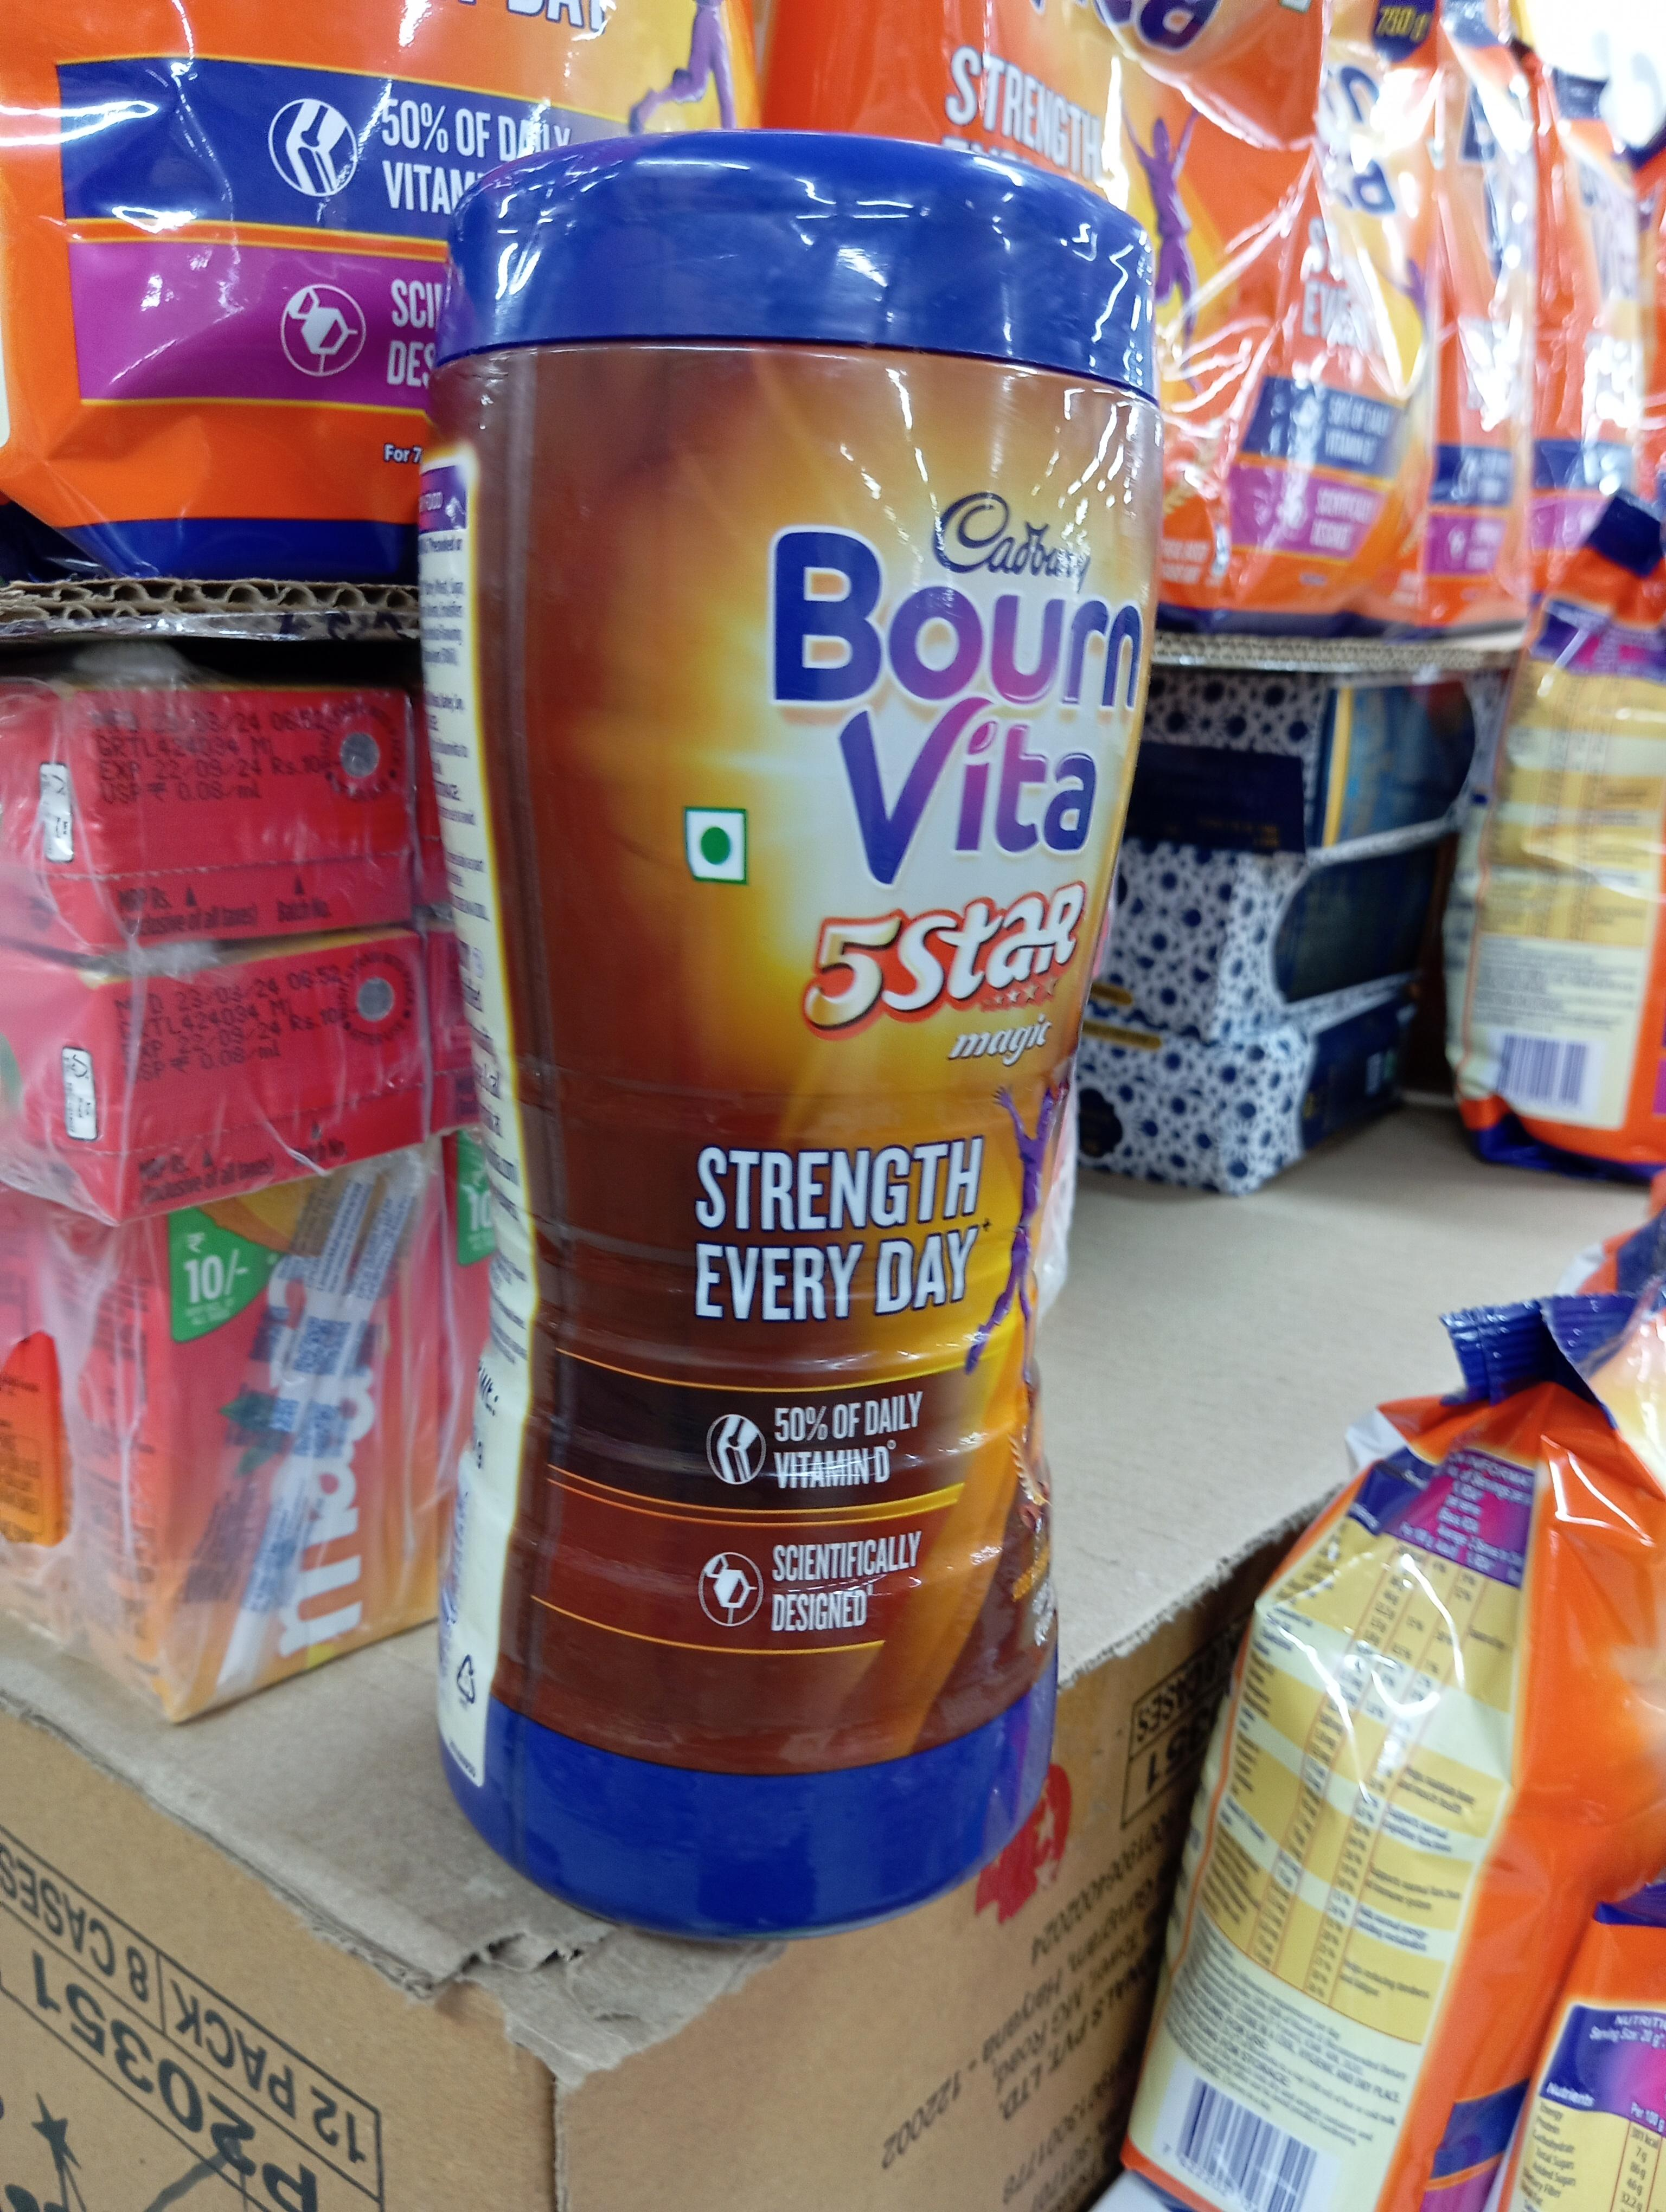BOURN_VITA_FIVE_STAR_MAGIC_500_G_JAR: (455, 140, 1174, 1939)
